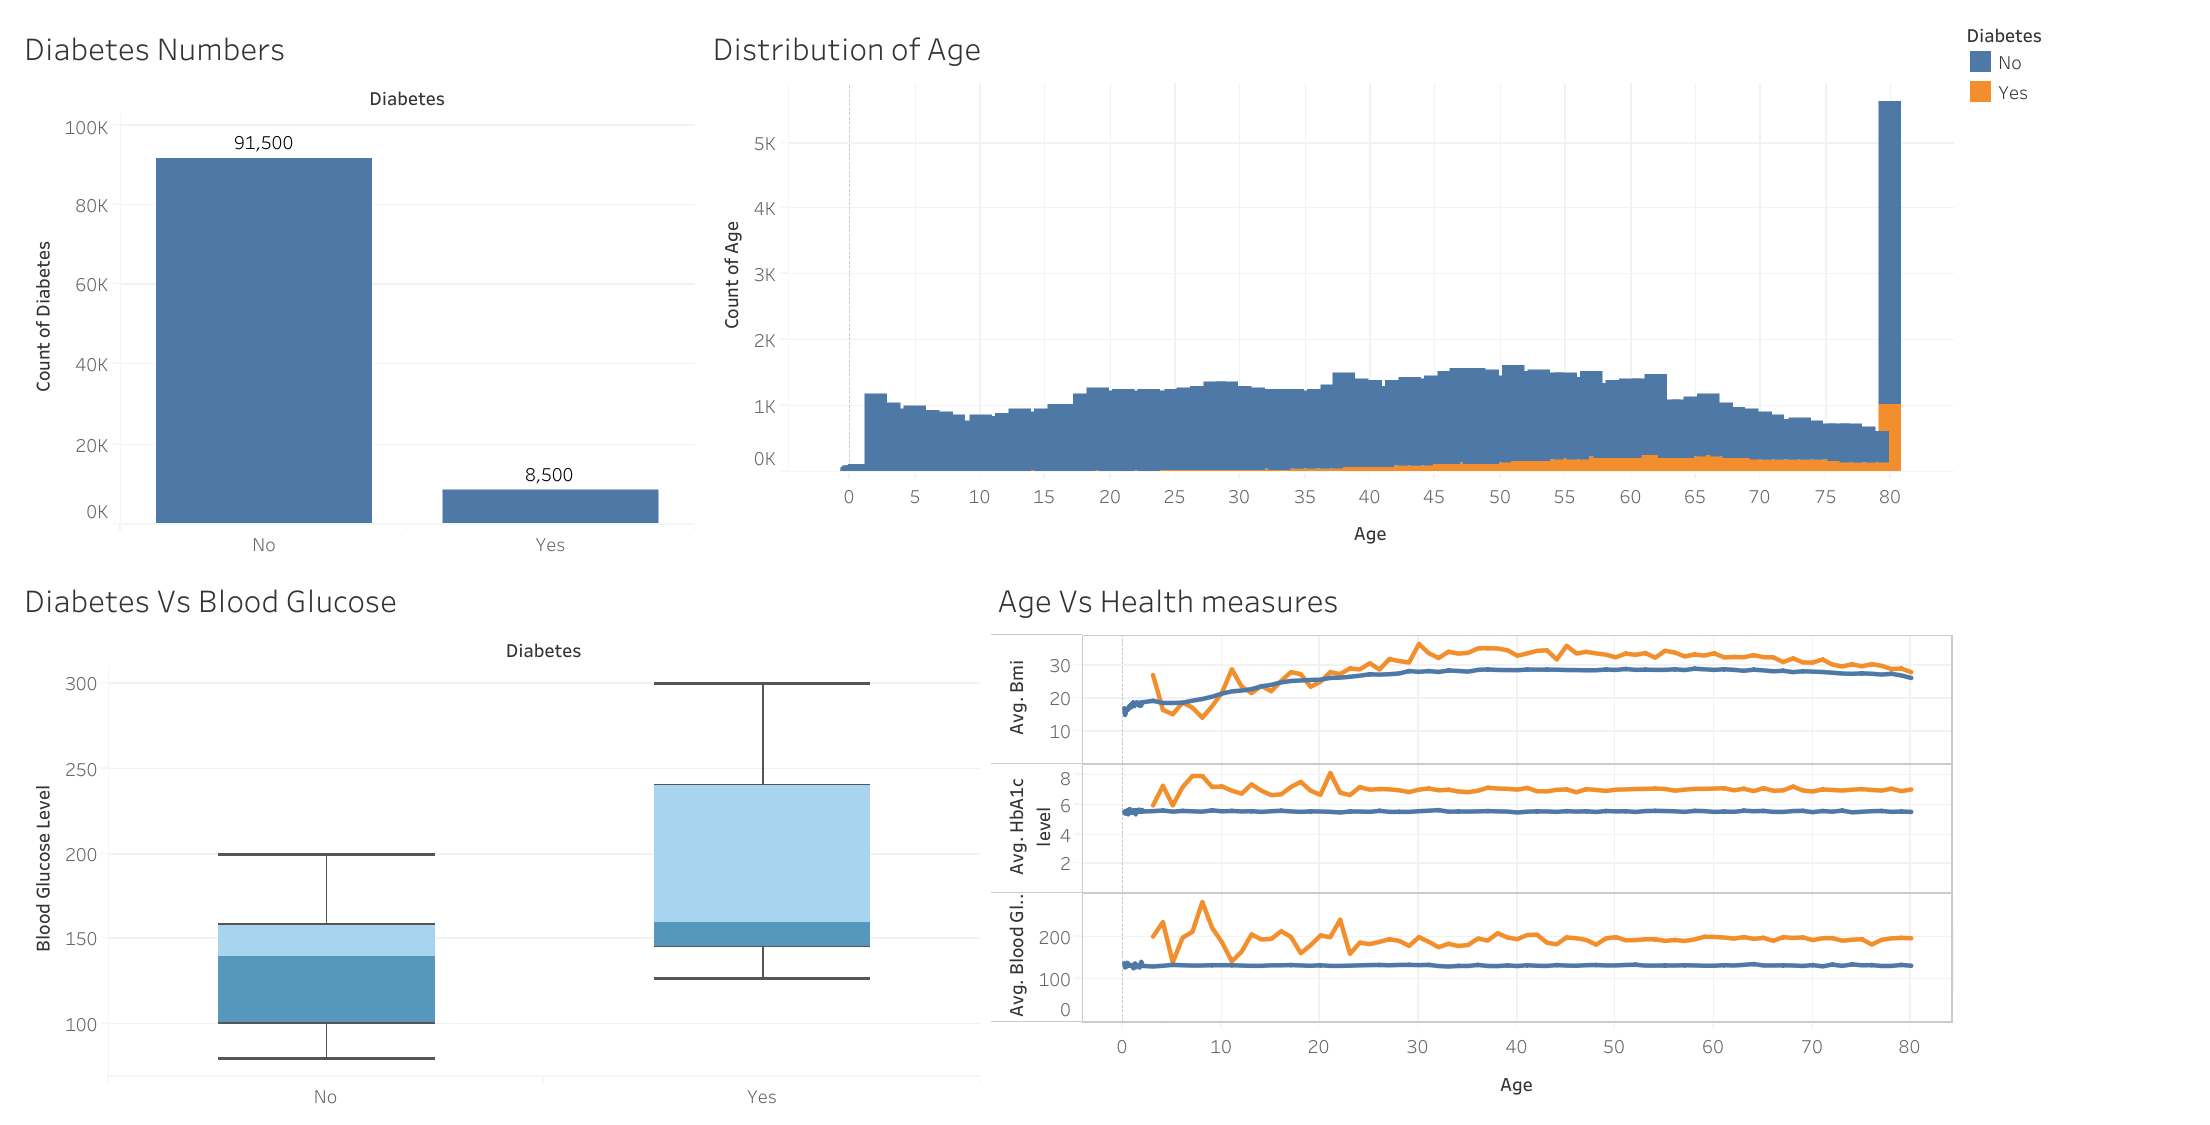

The page's visual inventory and layout, read from the dashboard file:
{"tool":"tableau","page":{"name":"Dashboard 1","canvas":[1000,1000],"units":"permille","ordinal":0},"visuals":[{"type":"worksheet","title":"Sheet 1","mark":"Automatic","rows":["diabetes"],"cols":["diabetes"],"box":[4.1,6.5,321.7,493.5]},{"type":"worksheet","title":"Sheet 2","mark":"Bar","rows":["age"],"cols":["age"],"box":[325.8,6.5,587.6,493.5]},{"type":"legend","title":"Sheet 2","param":"[federated.0e6ix5a0usdavc164fa0r1173jj1].[none:diabetes:nk]","box":[913.4,6.5,82.5,68.3]},{"type":"worksheet","title":"Sheet 3","mark":"Automatic","rows":["blood_glucose_level"],"cols":["diabetes"],"box":[4.1,500,454.7,493.5]},{"type":"worksheet","title":"Sheet 4","mark":"Automatic","rows":["bmi","HbA1c_level","blood_glucose_level"],"cols":["age"],"box":[458.8,500,454.6,493.5]}]}

Visuals, with their boxes on the dashboard's canvas, which has no fixed pixel size, in thousandths of its width and height (x1, y1, x2, y2). These are canvas units, not pixel positions in the 2210x1125 screenshot, which may show the page scaled, cropped or inside an application window:
"Sheet 1" worksheet: (4,6,326,500)
"Sheet 2" worksheet (Bar marks): (326,6,913,500)
"Sheet 2" legend: (913,6,996,75)
"Sheet 3" worksheet: (4,500,459,994)
"Sheet 4" worksheet: (459,500,913,994)
